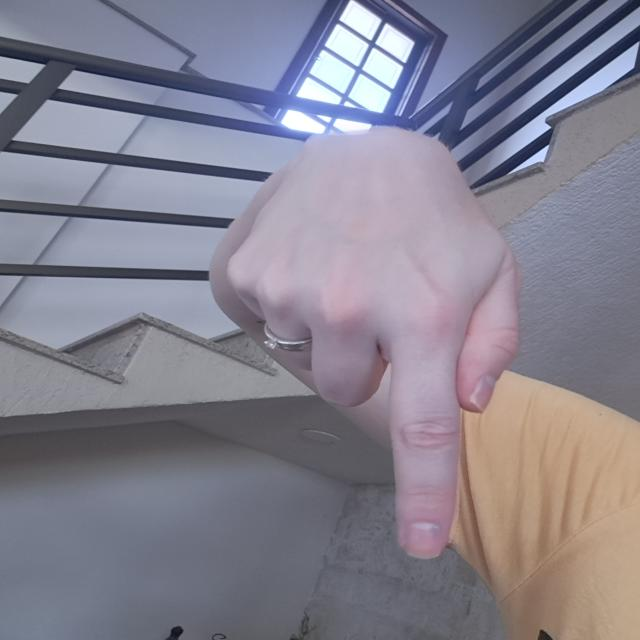Q: (222, 115, 520, 572)
